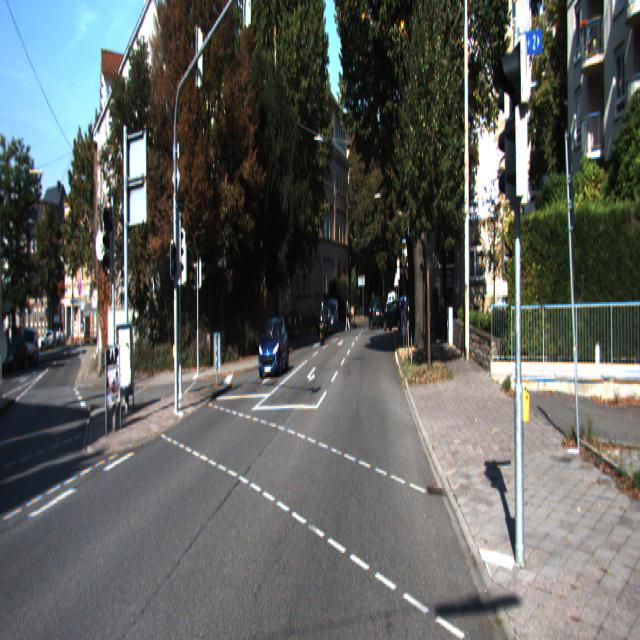Car: (257, 313, 290, 380), (318, 299, 326, 343)
